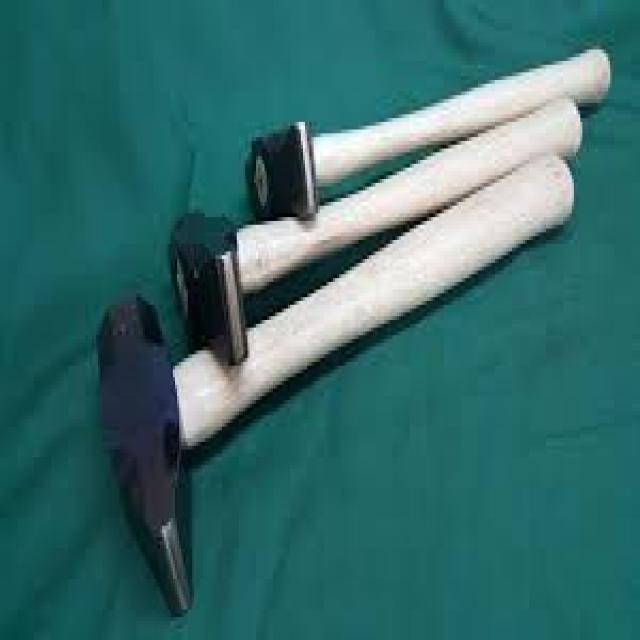hammer: (239, 32, 615, 228), (71, 279, 268, 627), (148, 188, 460, 366)
